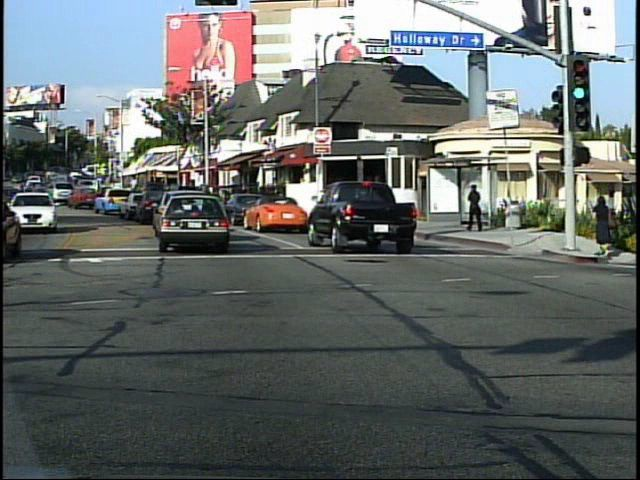person: (592, 193, 615, 259), (464, 181, 485, 236)
